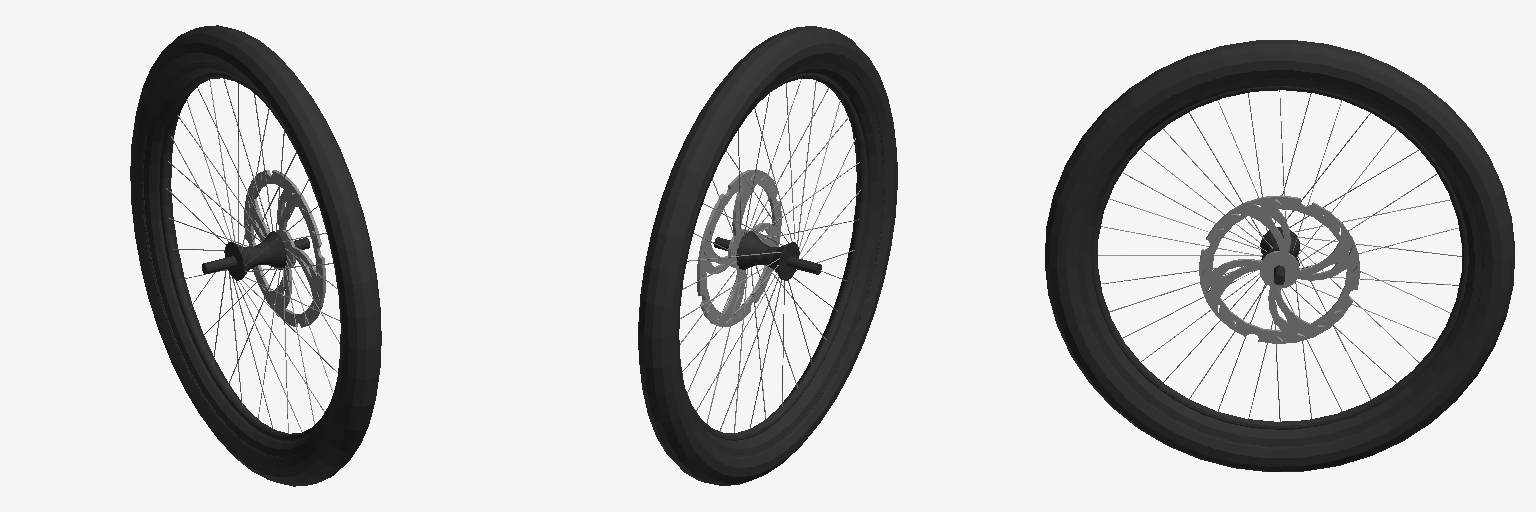
The model's file is FrontWheel.obj.
The picture shows the model from 3 angles: view 1: azimuth 30°, elevation 25°; view 2: azimuth 150°, elevation 25°; view 3: azimuth 270°, elevation 25°; orthographic projection.
Visible parts, largest first — view 1: FrontWheel; view 2: FrontWheel; view 3: FrontWheel.
Boxes of the visible parts, box(x1,y1,x2,y2) form: FrontWheel: box(130, 25, 381, 486); FrontWheel: box(638, 26, 897, 485); FrontWheel: box(1045, 40, 1514, 471).
Bounding box in the file's own units: 17.9 × 70.83 × 70.89.